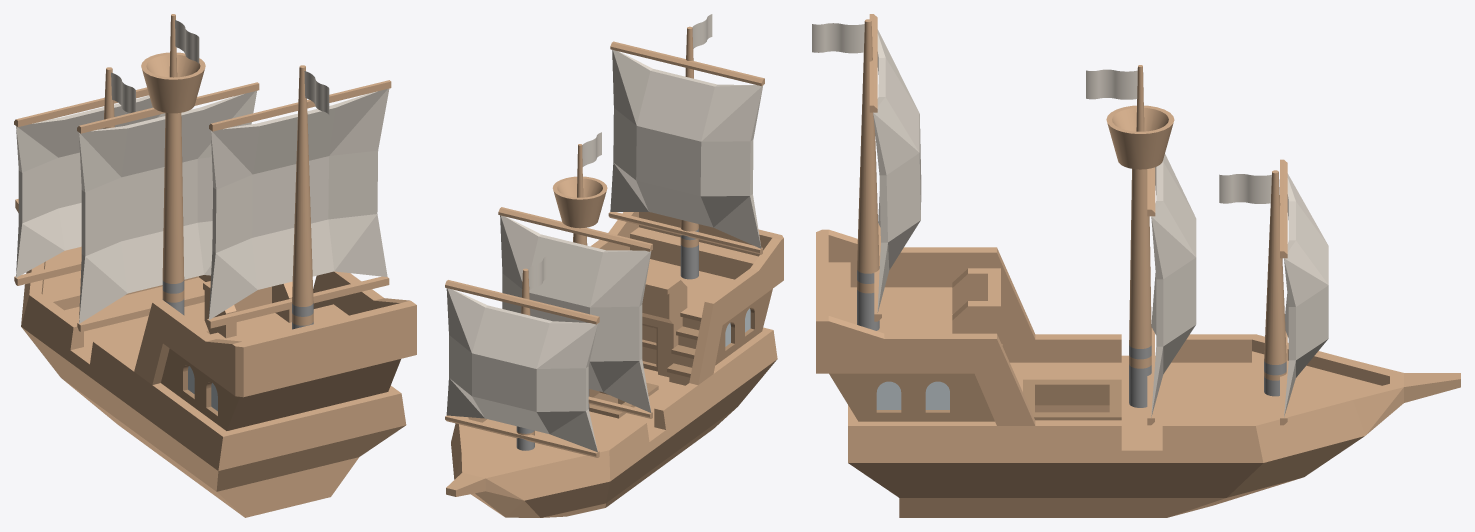
File: ShipCenter.glb
The picture shows the model from 3 angles, left to right: view 1: azimuth 30°, elevation 25°; view 2: azimuth 150°, elevation 25°; view 3: azimuth 270°, elevation 25°; orthographic projection. The views are drawn at different scales.
Parts seen in each view (by area): view 1: ship_light_8angles, sail_back 1, sail_middle 1, sail_front 1; view 2: ship_light_8angles, sail_back 1, sail_front 1, sail_middle 1; view 3: ship_light_8angles, sail_back 1, sail_middle 1, sail_front 1.
Boxes of the visible parts, x1,y1,x2,y2 form: ship_light_8angles: (15,14,416,517); sail_back 1: (207,80,391,328); sail_middle 1: (77,82,259,331); sail_front 1: (14,87,165,285); ship_light_8angles: (446,14,783,517); sail_back 1: (608,41,764,254); sail_front 1: (445,280,599,457); sail_middle 1: (498,207,652,418); ship_light_8angles: (812,19,1460,517); sail_back 1: (869,14,921,321); sail_middle 1: (1147,154,1196,425); sail_front 1: (1280,159,1328,425).
Bounding box in the file's own units: 5.7 × 13.09 × 16.2.
